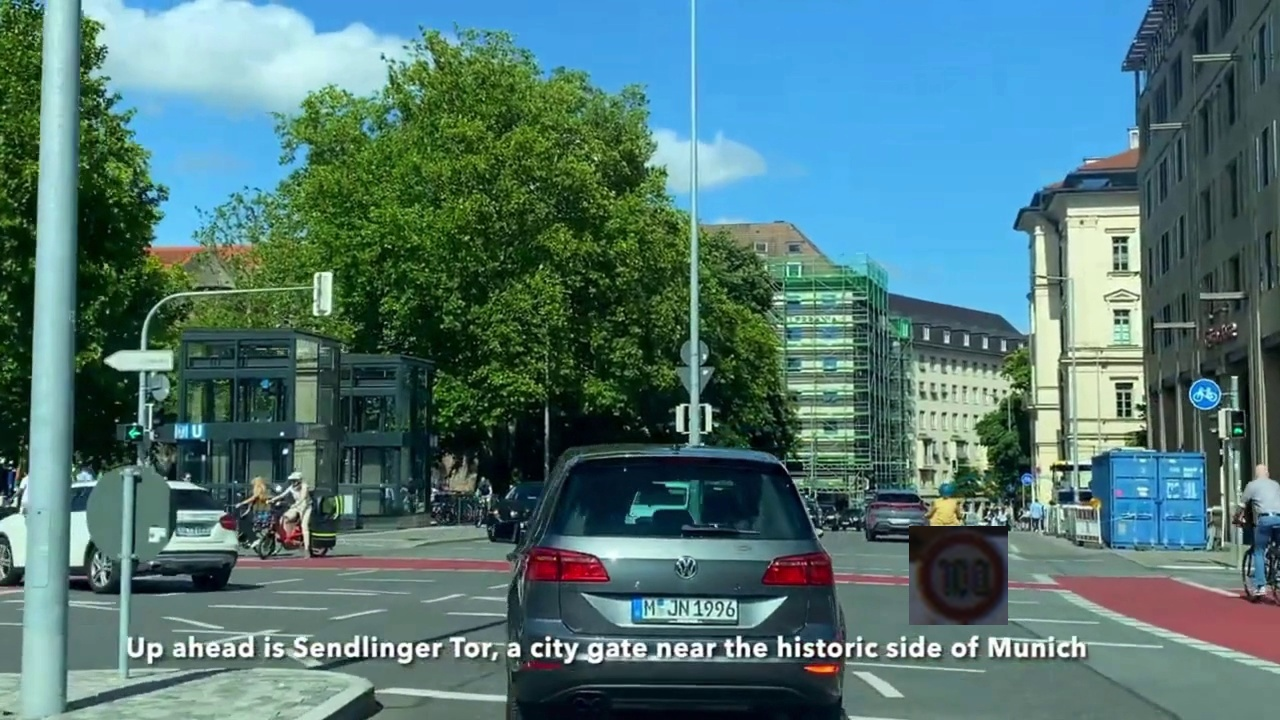Speed 100: (909, 526, 1008, 625)
